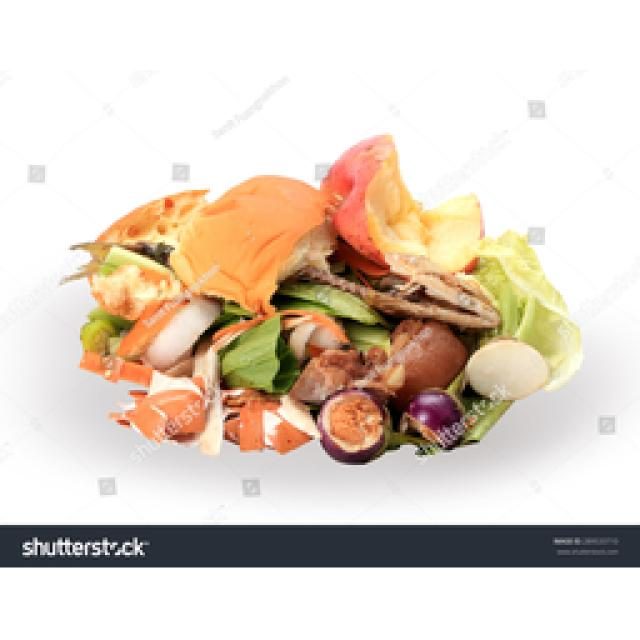food_waste: (65, 135, 578, 462)
